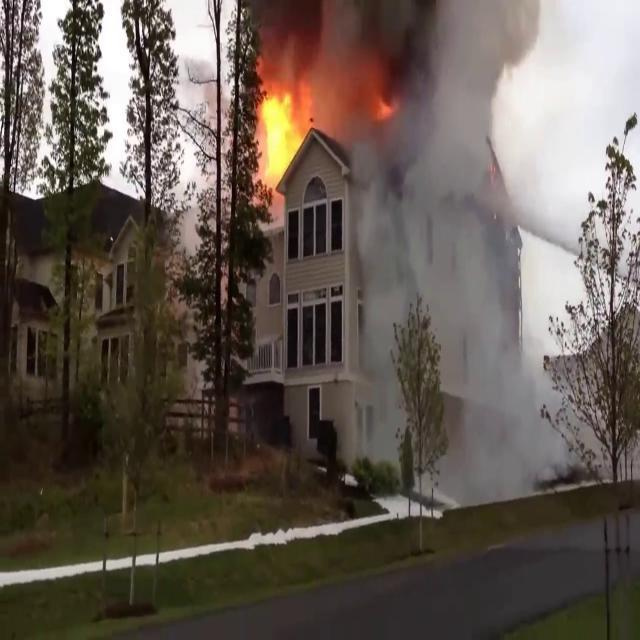Fire: (252, 72, 312, 196)
Smoke: (337, 0, 562, 478)
